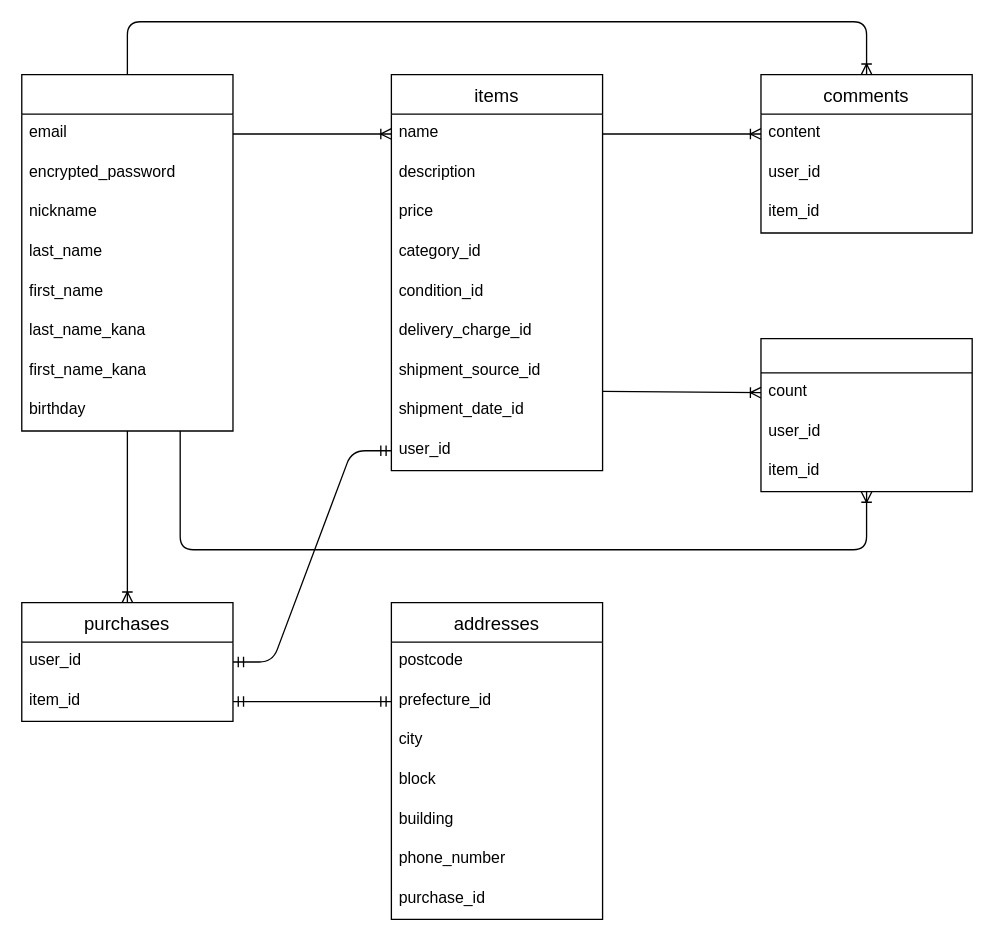
Image size: 994x941. Some labels were removed from this diagram. Here are the shapes that lost their labels. From the top down, the box of each, then its label:
(20, 73, 233, 431): users
(760, 337, 972, 492): favorites
